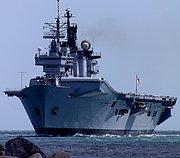MIL_Ship: (4, 3, 177, 137)
